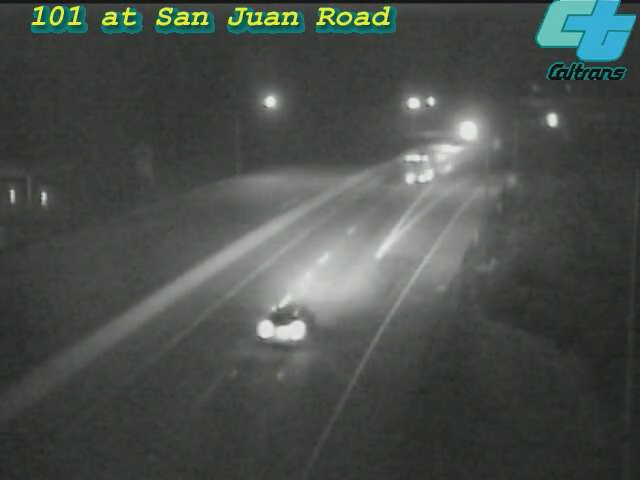vehicle: (229, 270, 339, 380), (372, 129, 452, 209), (446, 104, 496, 154), (526, 97, 576, 147), (426, 122, 476, 172), (412, 127, 462, 177)
